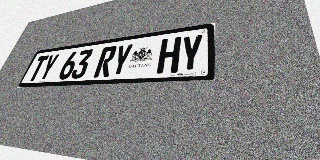3: (70, 49, 94, 79)
6: (57, 51, 81, 80)
H: (156, 37, 181, 74)
R: (93, 46, 118, 78)
T: (27, 55, 49, 82)
Y: (178, 34, 203, 73), (109, 43, 134, 77), (37, 54, 60, 81)
